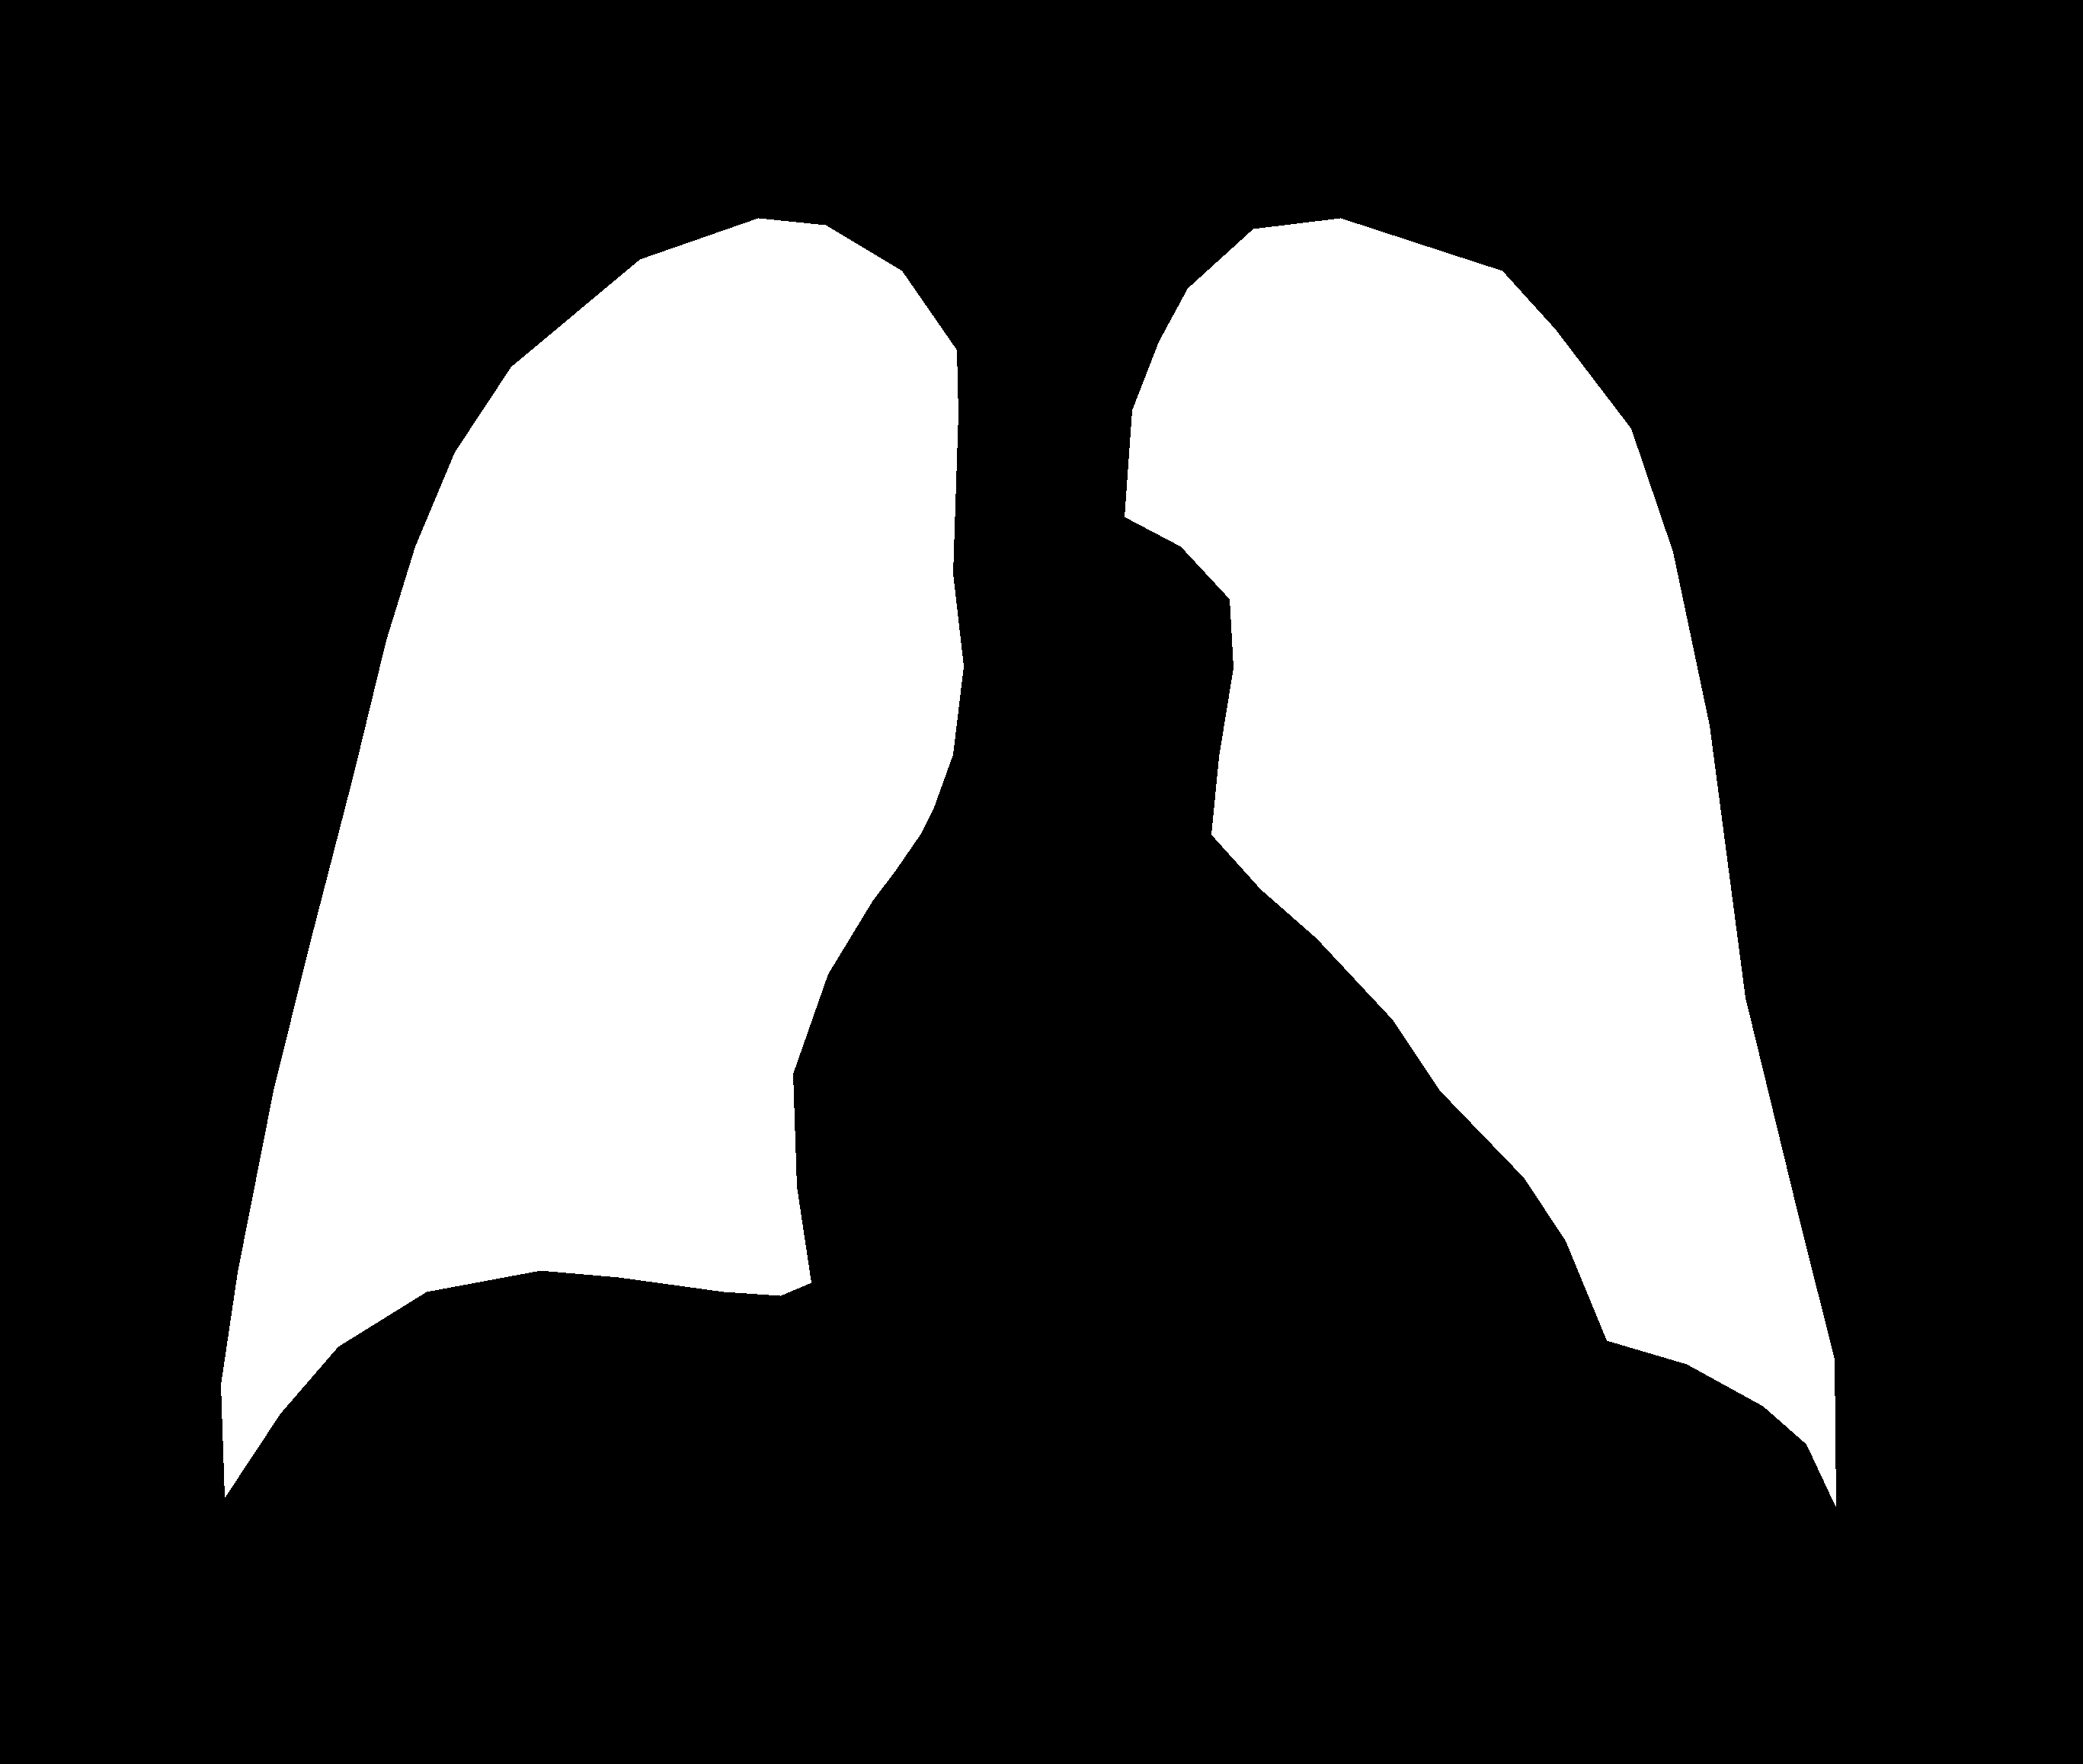heart: (796, 768, 1602, 1463)
left_lung: (220, 219, 964, 1496)
right_lung: (1125, 219, 1835, 1505)
